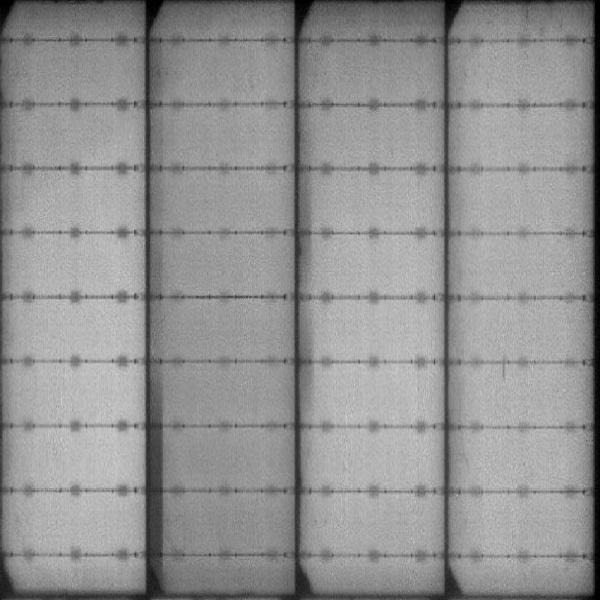black_border: (142, 373, 168, 567)
